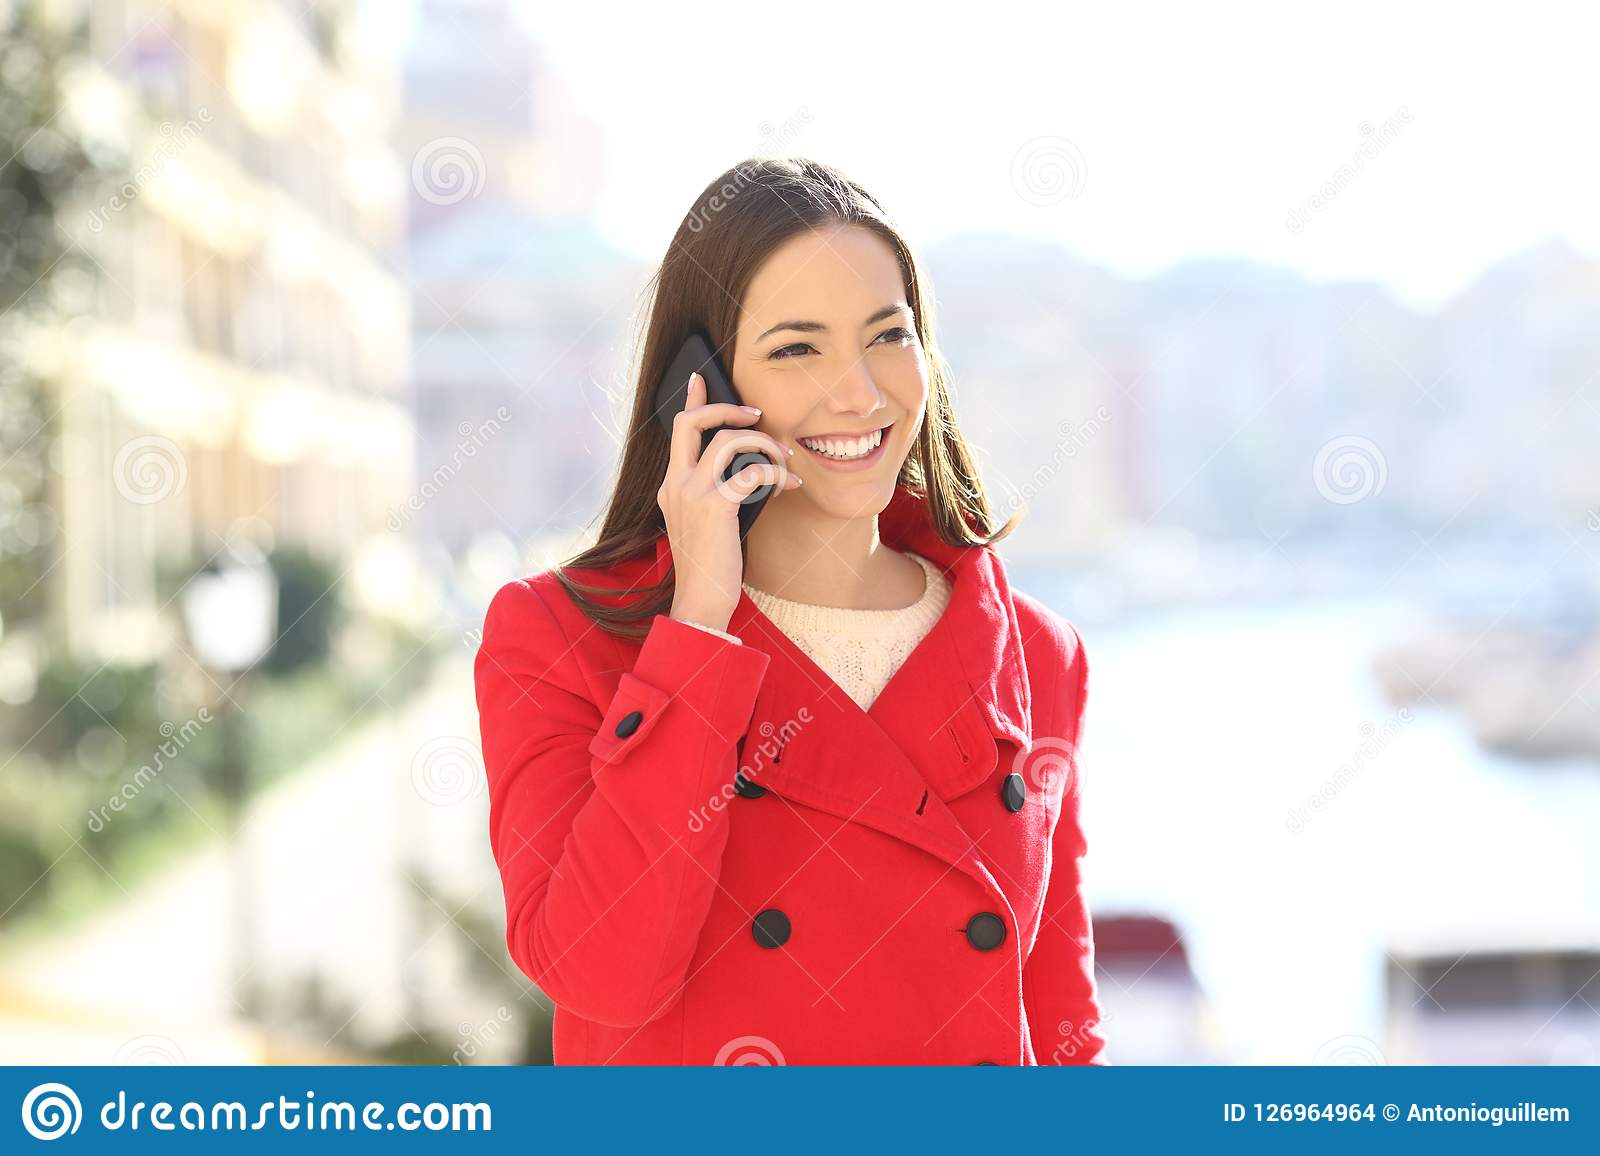phone: (646, 335, 780, 534)
talk: (643, 305, 928, 618)
